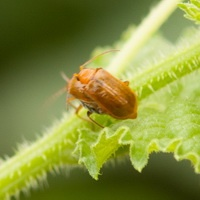insect: (64, 50, 136, 127)
